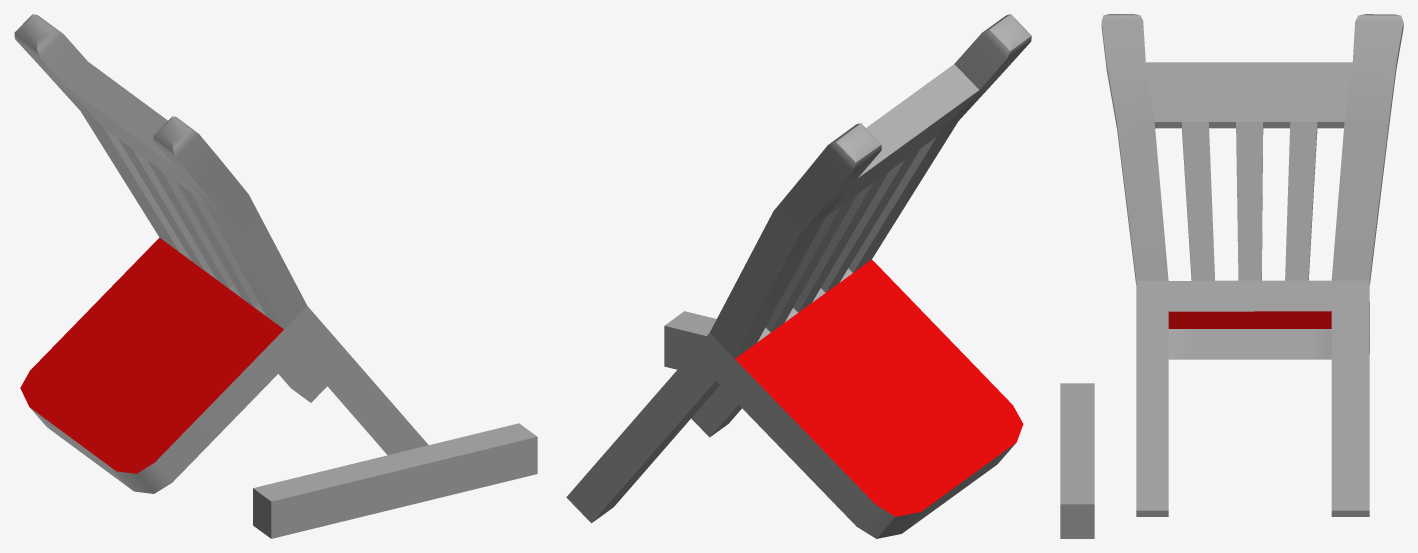
The model's file is korssi2.fbx.
The picture shows the model from 3 angles, left to right: view 1: azimuth 30°, elevation 25°; view 2: azimuth 150°, elevation 25°; view 3: azimuth 270°, elevation 25°; orthographic projection. The views are drawn at different scales.
Visible parts, largest first — view 1: pCube10; view 2: pCube10; view 3: pCube10.
Part boxes in pixels (x1,y1,x2,y2): pCube10: (14, 14, 537, 538); pCube10: (566, 14, 1031, 538); pCube10: (1060, 14, 1403, 538).
Size of the model in its own units: 5.87 by 6.51 by 5.16.
